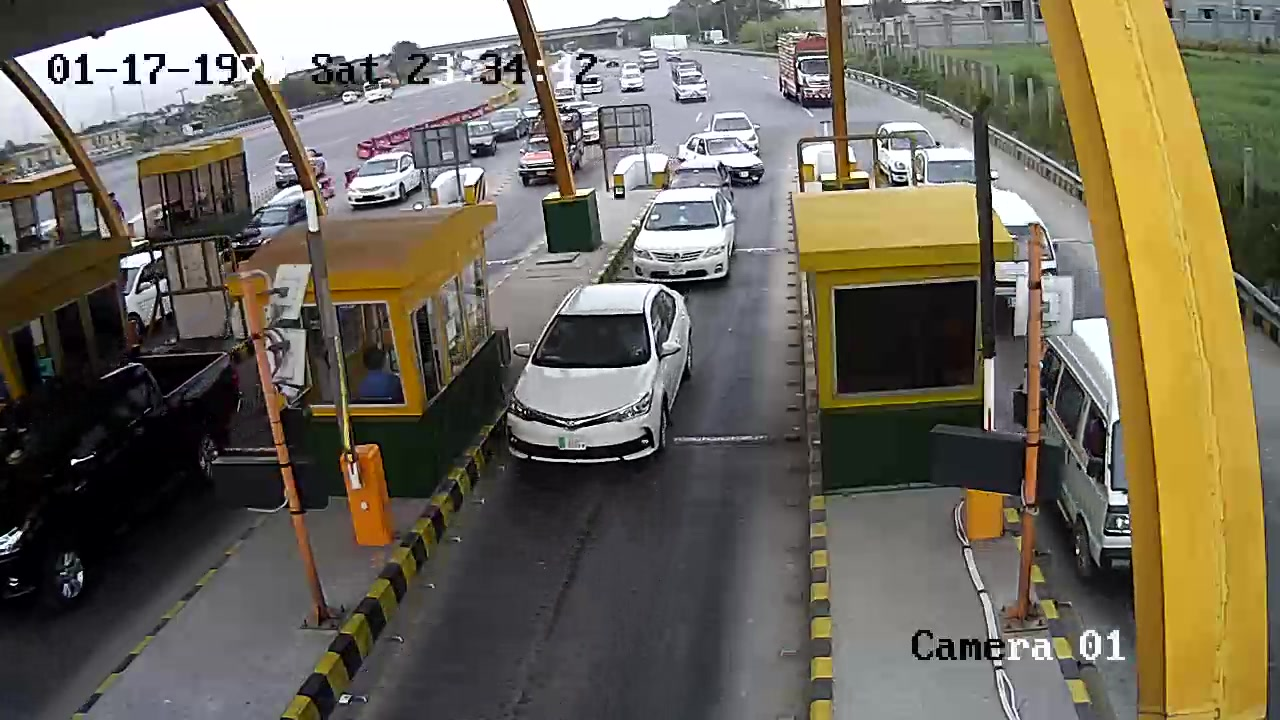F1: (485, 274, 712, 490)
